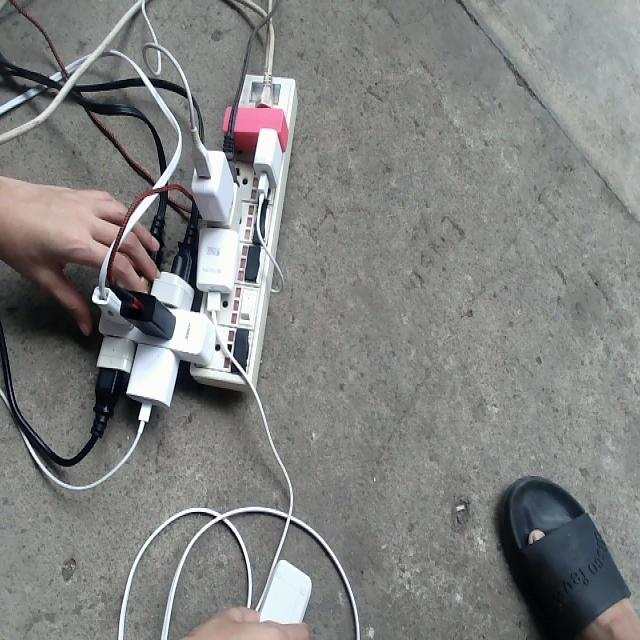-: (90, 74, 299, 394)
